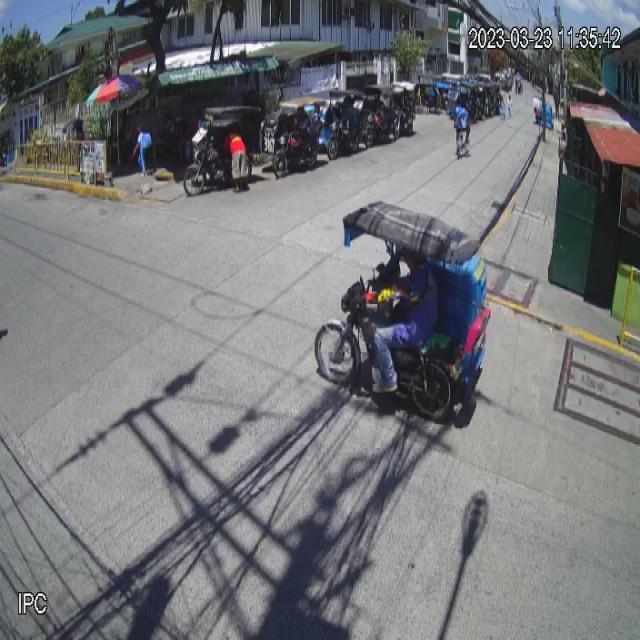Tricycle: (315, 199, 492, 424)
